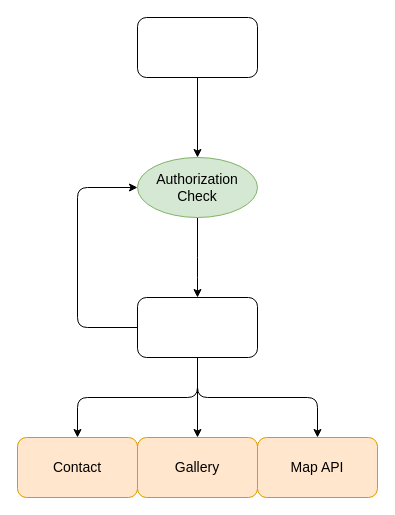
This 395x515 diagram has some shape labels left out. The shapes that lost their labels are listed below. From the top down, each one's centre as x and y in pixels, then its label:
At (x=197, y=47): "MainActivity".
At (x=197, y=327): "TabActivity".
